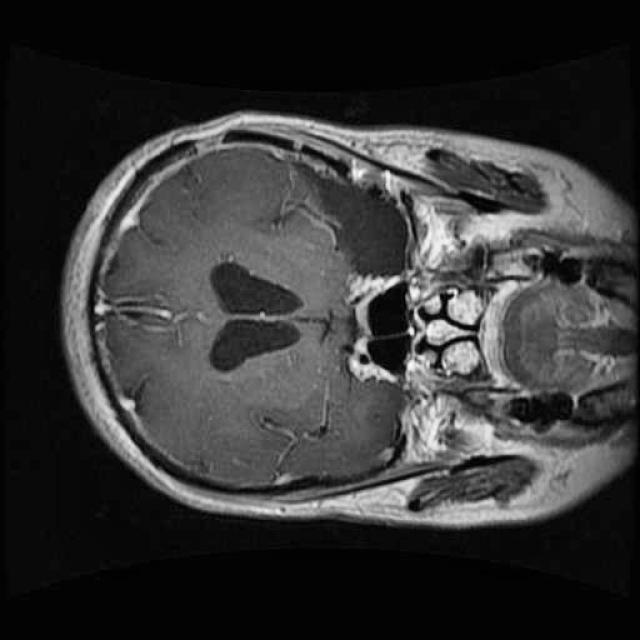Tumor: (285, 142, 441, 292)
